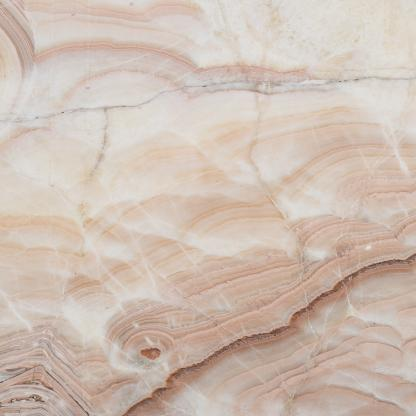Sedimentary_Sandstone: (8, 1, 415, 415)
